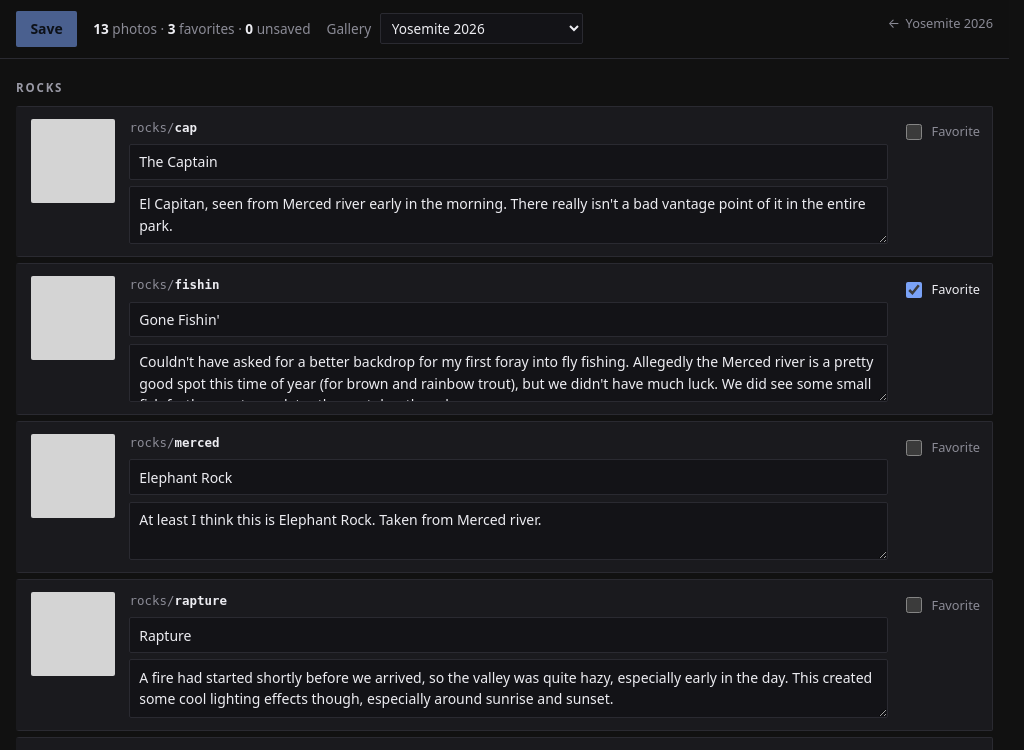
Test: editing and saving › rebases after a save, so nothing stays marked unsaved
Replace the text in the field with class "f-title" below "fishin" with "Saved title" at (509, 319), box [129,302,888,337]
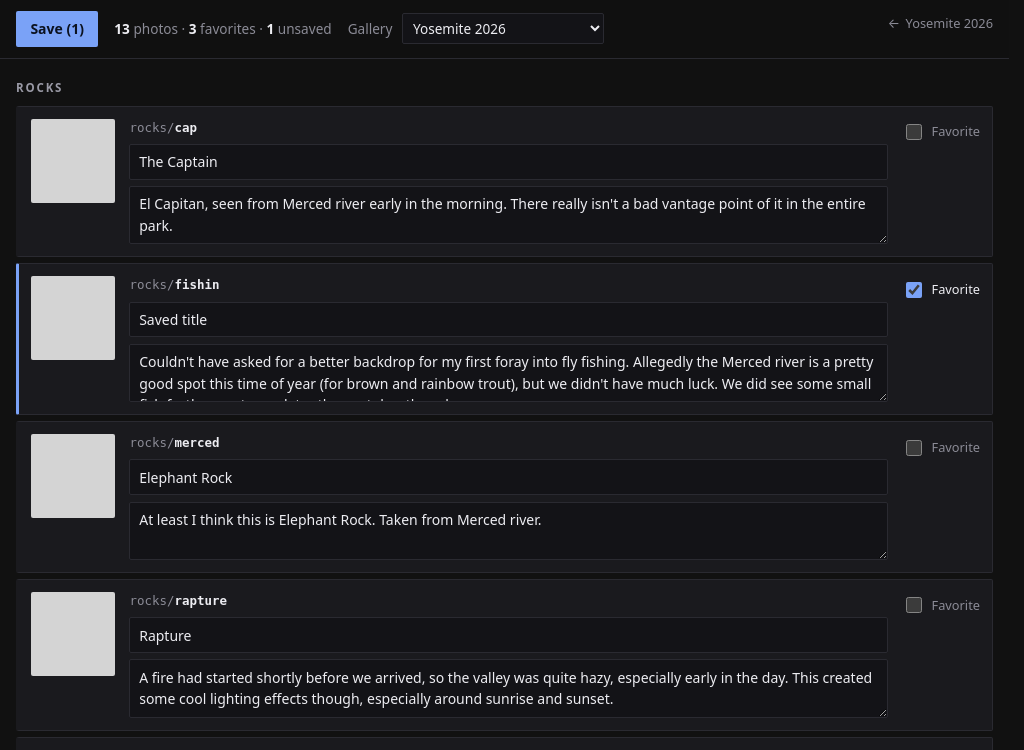
Expected: the button "Save (1)" is enabled
Click the button "Save (1)" at (57, 29), box [16,11,98,47]
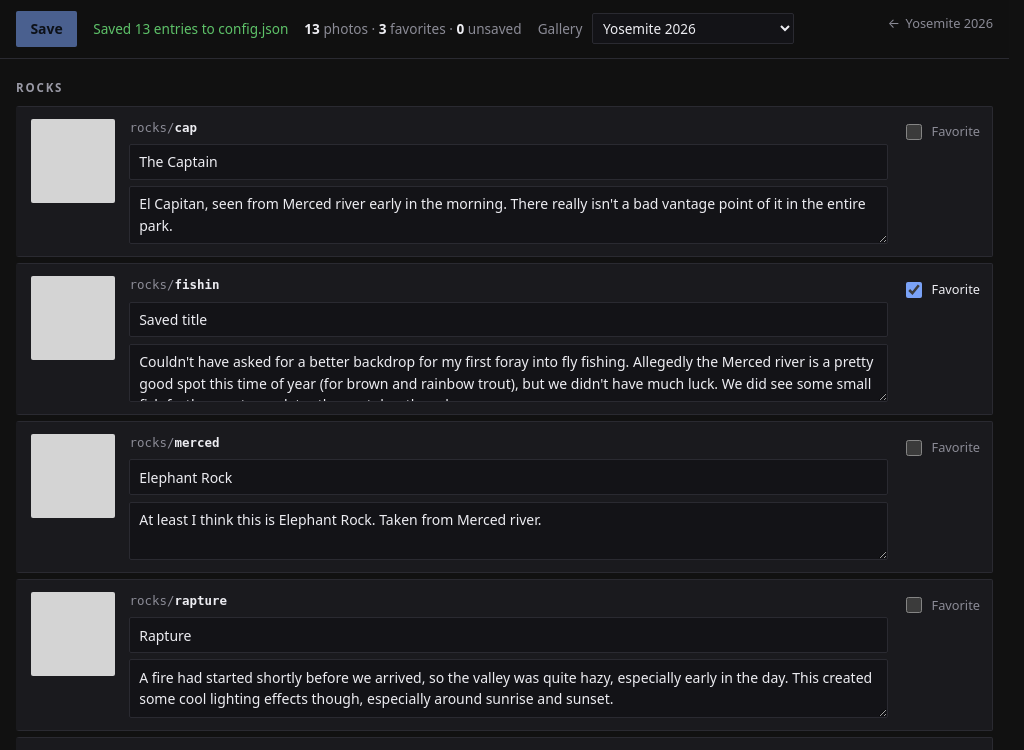
Expected: the text "Saved 13 entries to config.json" is shown, [93,19,288,39]
Expected: the button "Save" is disabled, [16,11,77,47]
